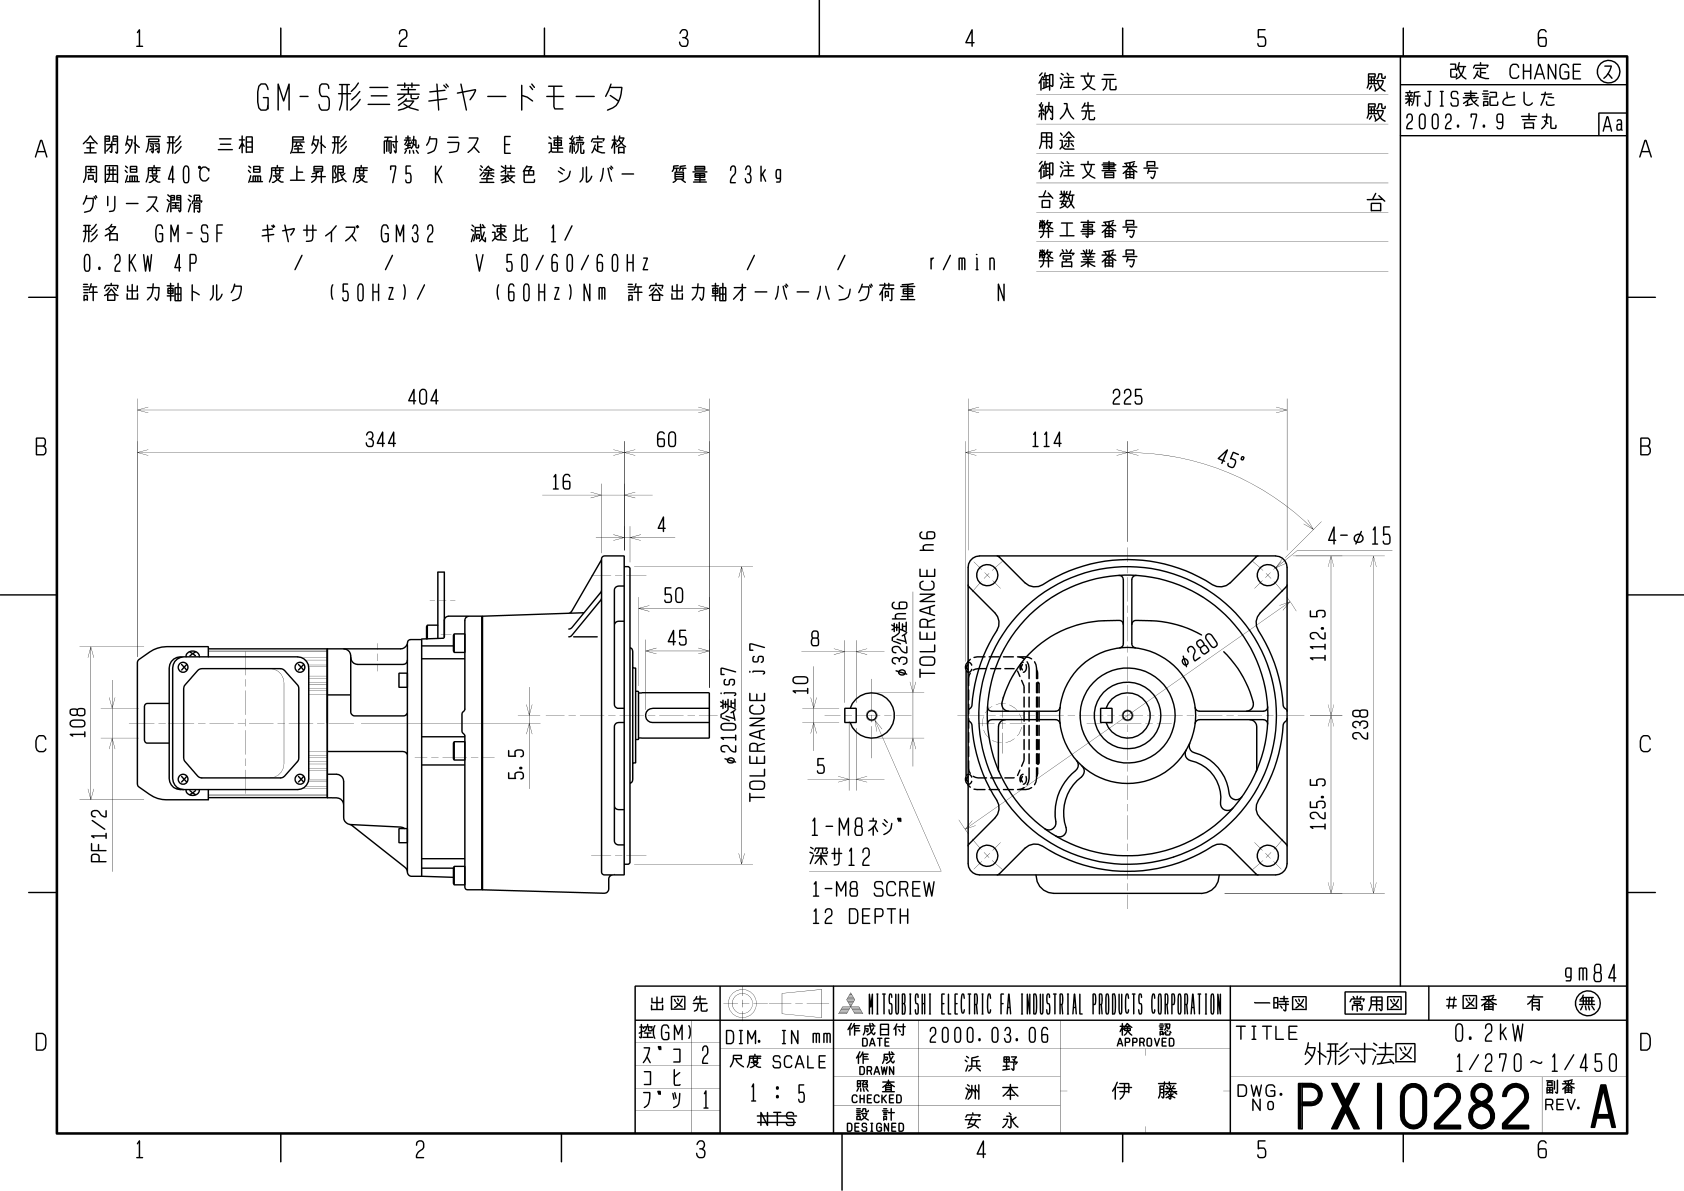GM_S_屋外＿三相_フランジ: (64, 373, 1397, 955)
